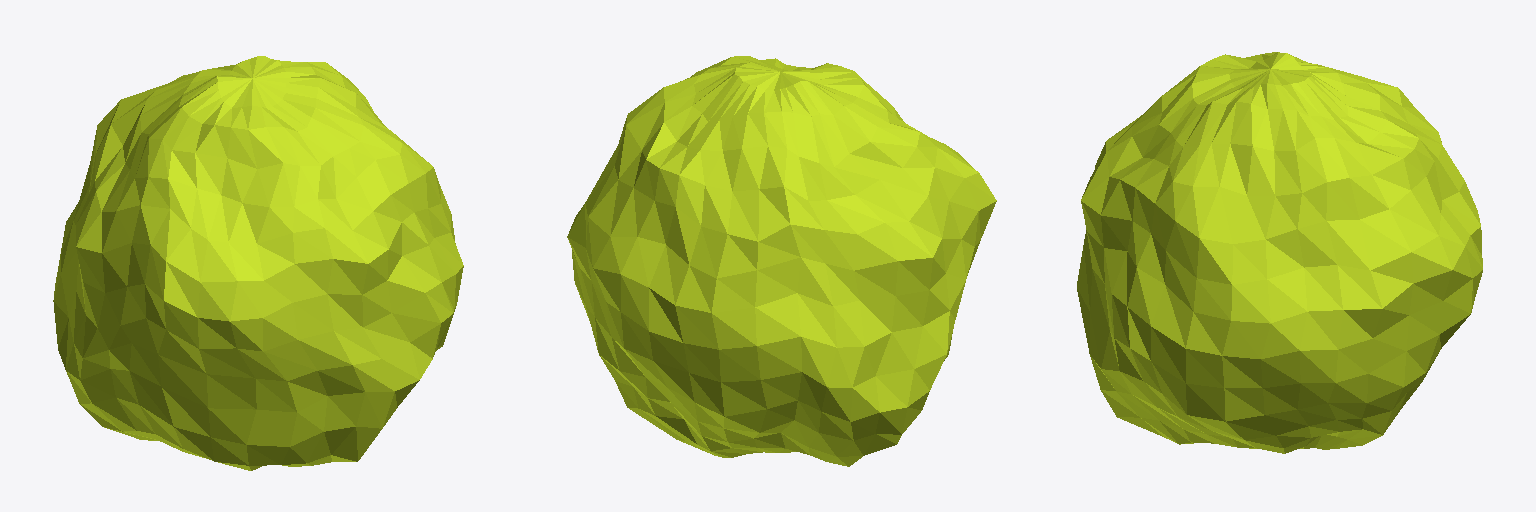
Rendered from explode1.obj.
3 views of the same model, side by side, from view 1: azimuth 30°, elevation 25°; view 2: azimuth 150°, elevation 25°; view 3: azimuth 270°, elevation 25° (orthographic).
Visible parts, largest first — view 1: Sphere01; view 2: Sphere01; view 3: Sphere01.
Part boxes in pixels (left/top/right/bottom): Sphere01: left=53, top=56, right=463, bottom=470; Sphere01: left=567, top=56, right=996, bottom=466; Sphere01: left=1077, top=52, right=1482, bottom=453.
Bounding box in the file's own units: 88.52 × 89.22 × 88.52.